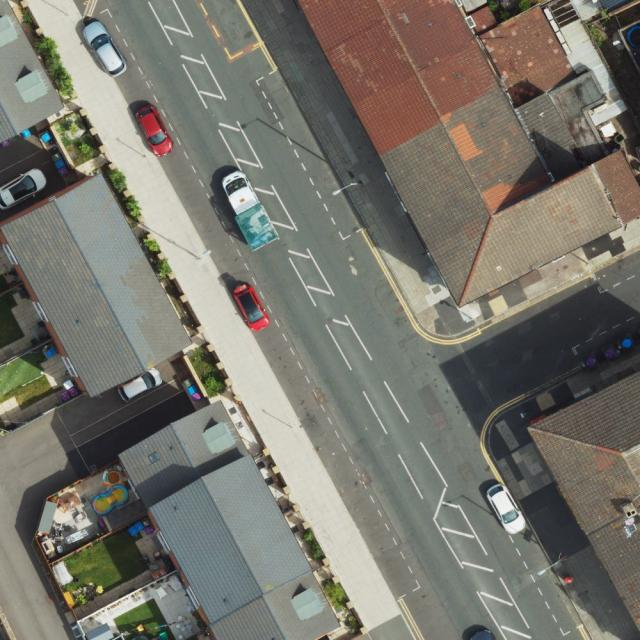roof: (299, 1, 640, 308), (119, 397, 339, 639), (0, 172, 194, 397), (532, 369, 640, 630), (0, 0, 66, 142)
skylight: (142, 447, 163, 465)
